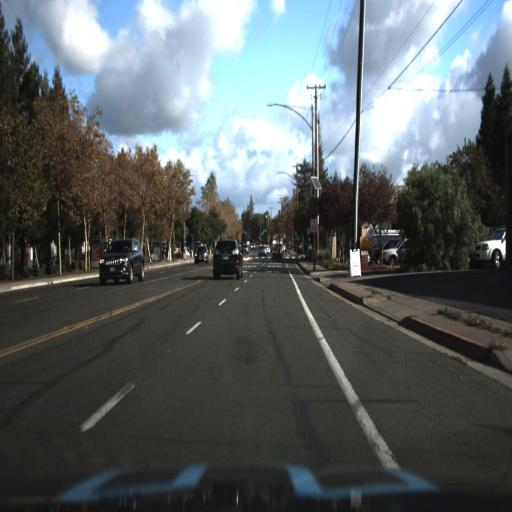car: (94, 233, 147, 289), (209, 232, 250, 290), (379, 236, 412, 271), (187, 241, 212, 269), (270, 242, 283, 259)
